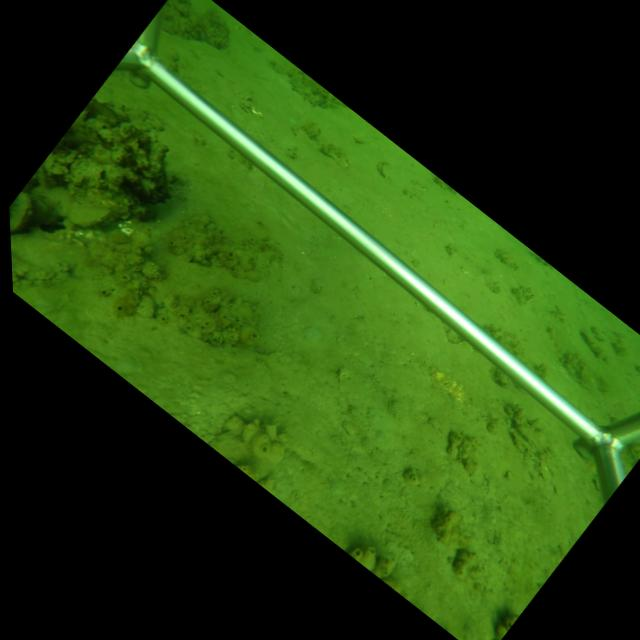Oyster-Closed: (65, 201, 111, 233), (9, 192, 34, 235)
